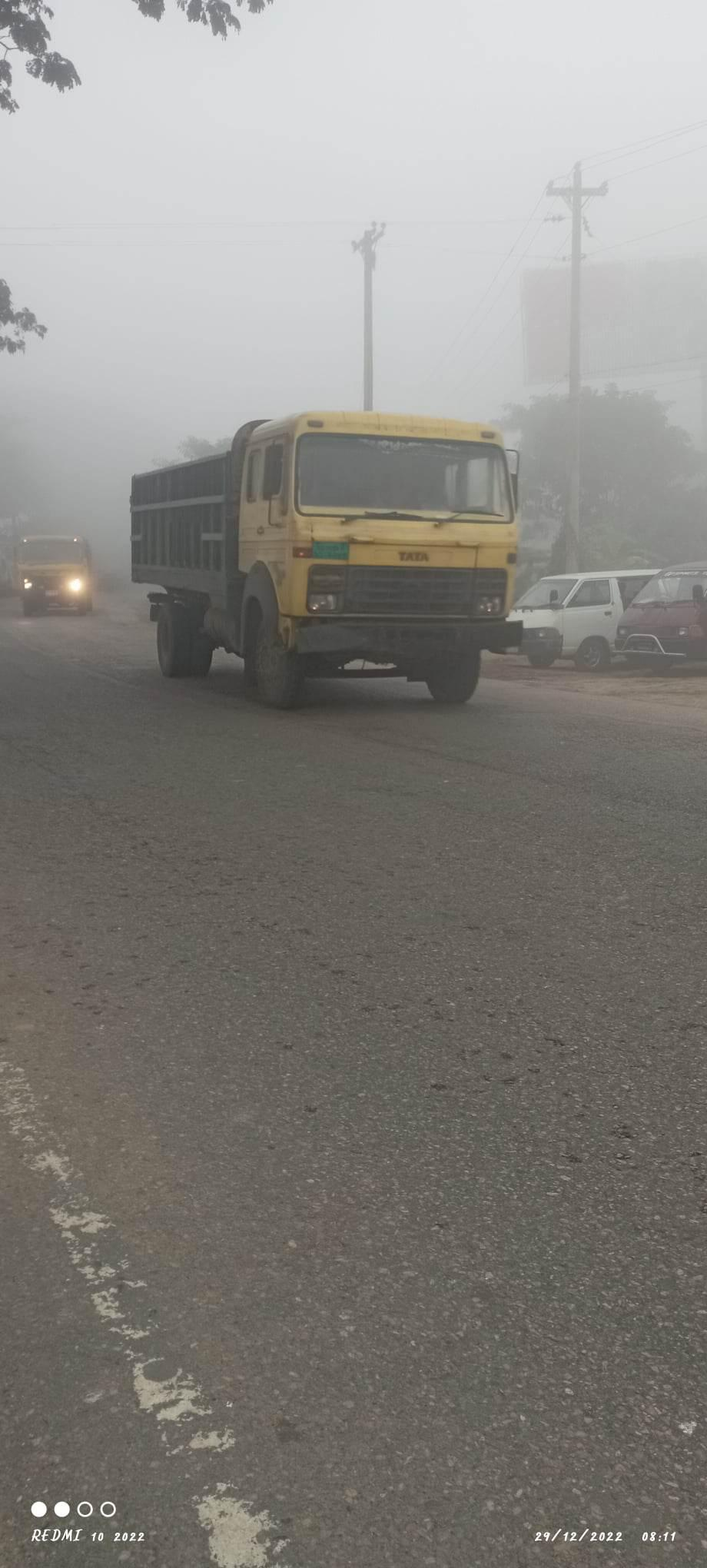Car: (508, 553, 671, 666)
Truck: (109, 380, 553, 742), (5, 512, 119, 664)
